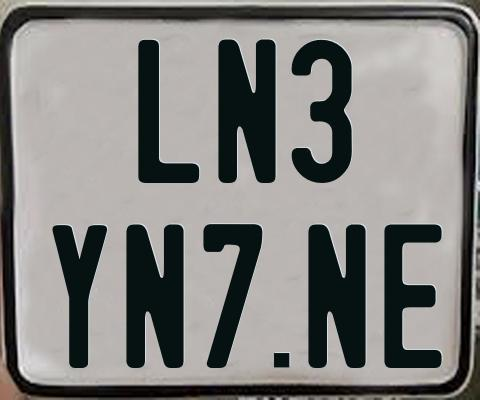3: (290, 39, 352, 188)
7: (201, 221, 264, 371)
E: (382, 224, 444, 373)
L: (135, 38, 199, 184)
N: (306, 223, 369, 371), (126, 224, 186, 371), (215, 38, 274, 185)
Y: (52, 223, 111, 370)
